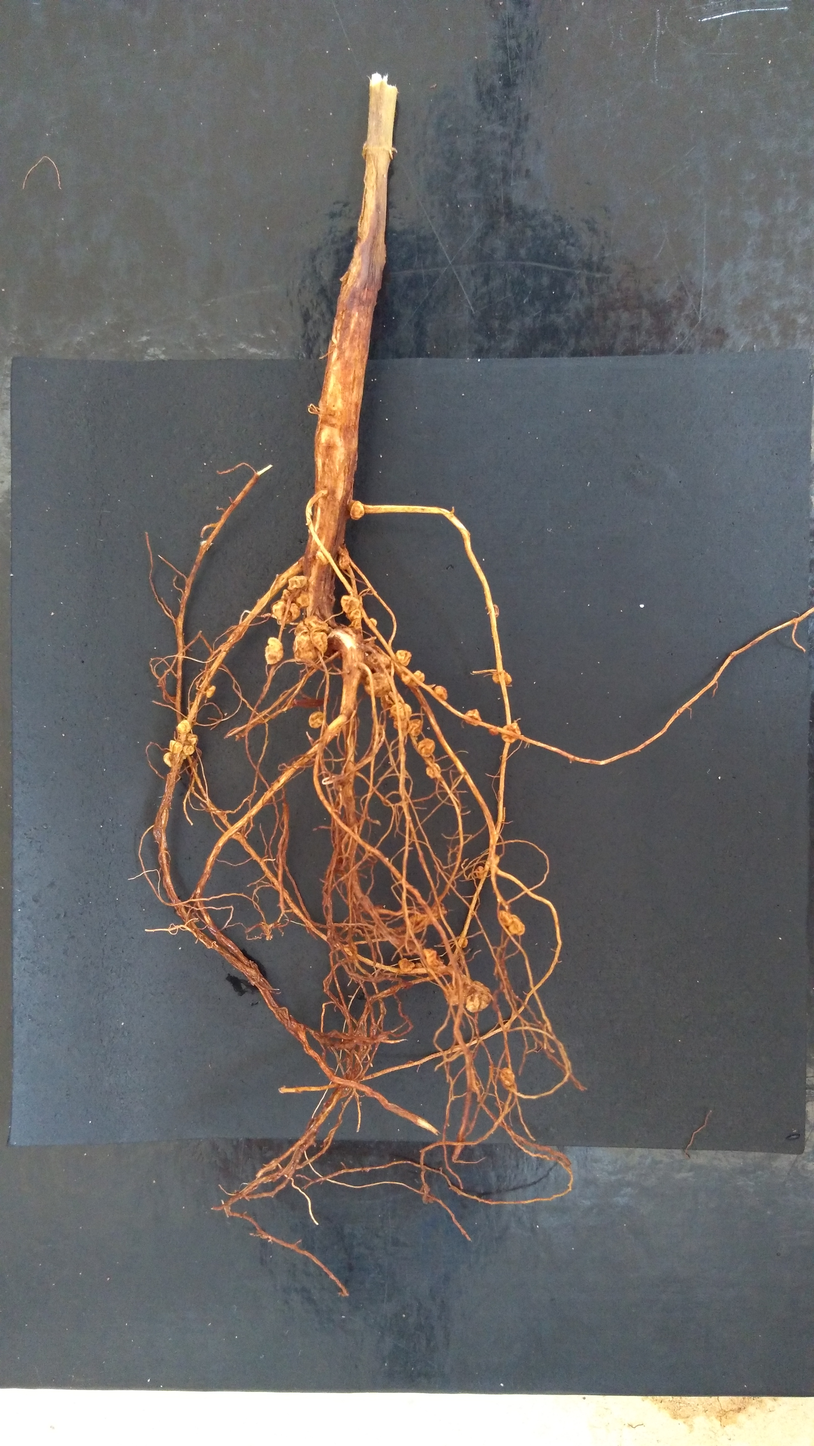nodule: (292, 632, 318, 666), (362, 671, 393, 698), (465, 980, 492, 1011), (442, 977, 467, 1005), (262, 636, 285, 666), (392, 702, 413, 731), (365, 650, 392, 672), (302, 615, 331, 634), (500, 722, 522, 745), (309, 630, 329, 655), (394, 647, 415, 669), (416, 737, 437, 759), (499, 1066, 518, 1090), (508, 912, 526, 937), (340, 594, 361, 615), (491, 667, 513, 687), (422, 947, 444, 967), (282, 602, 301, 625), (337, 545, 352, 572), (463, 707, 483, 727), (307, 709, 326, 730), (348, 500, 366, 522), (388, 701, 406, 721), (270, 600, 287, 621), (407, 718, 423, 739), (497, 908, 514, 927), (424, 763, 442, 780), (313, 549, 331, 566), (287, 575, 307, 590), (396, 957, 416, 972), (294, 592, 311, 609), (432, 685, 450, 701), (279, 588, 296, 604), (292, 620, 310, 635), (412, 670, 426, 688), (346, 609, 364, 621), (176, 719, 191, 733), (349, 618, 363, 633), (186, 732, 199, 747), (205, 684, 217, 700), (162, 751, 172, 768), (475, 864, 485, 881), (368, 617, 380, 629), (182, 745, 195, 756), (172, 741, 182, 755), (401, 672, 411, 686), (458, 936, 469, 948), (168, 737, 176, 753), (488, 727, 500, 737)
